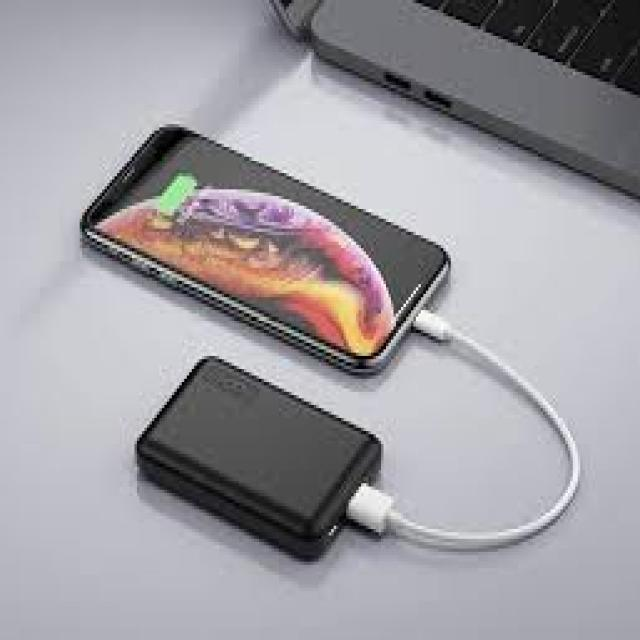power_bank: (132, 350, 385, 562)
